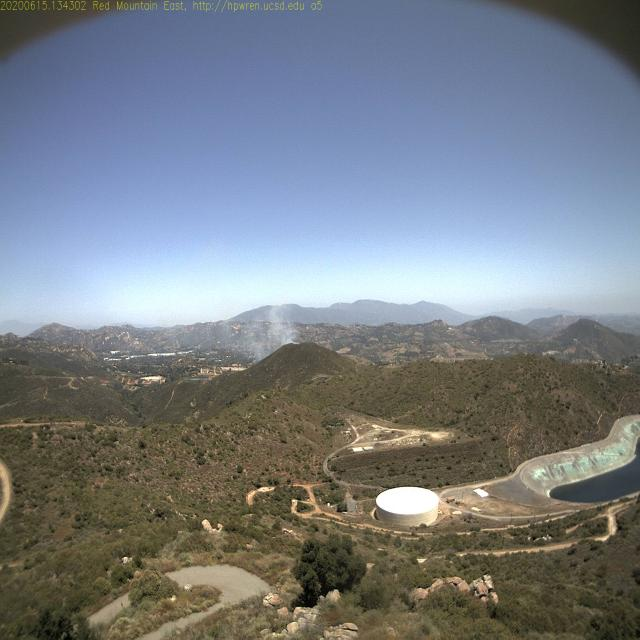smoke: (138, 273, 250, 367), (251, 292, 300, 366)
